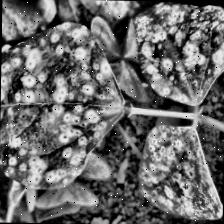Bean Rust: (0, 19, 114, 189), (131, 2, 224, 109), (138, 124, 224, 224)
